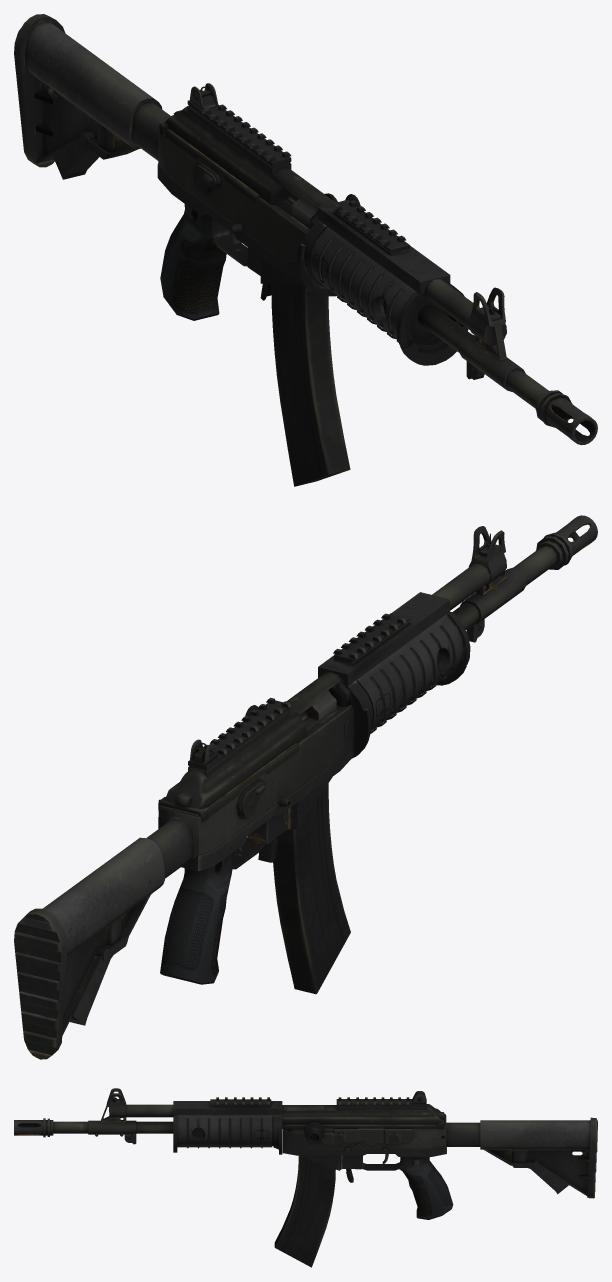
The model's file is galilar.glb.
3 renders of one model, top to bottom at view 1: azimuth 30°, elevation 25°; view 2: azimuth 150°, elevation 25°; view 3: azimuth 270°, elevation 25°, orthographic. The views are drawn at different scales.
Visible parts, largest first — view 1: galilar; view 2: galilar; view 3: galilar.
Part boxes in pixels (box(x1,y1,x2,y2)): galilar: box(14, 14, 597, 486); galilar: box(14, 515, 597, 1059); galilar: box(14, 1088, 597, 1267).
Bounding box in the file's own units: 3.04 × 10.85 × 32.97.
Materials: 1 (1 with a texture image).
